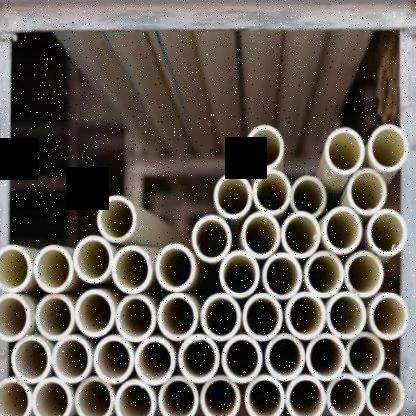pipe: (134, 336, 176, 386), (155, 243, 197, 292), (178, 334, 219, 384), (157, 293, 199, 341), (242, 294, 284, 342), (73, 235, 114, 284), (112, 245, 153, 294), (222, 335, 263, 384), (93, 335, 134, 384), (322, 206, 363, 254), (219, 250, 260, 298), (75, 290, 116, 338), (285, 292, 326, 340), (200, 293, 241, 341), (115, 294, 156, 342), (52, 335, 92, 384), (304, 251, 345, 298), (326, 292, 367, 339), (368, 124, 408, 172), (367, 208, 407, 256), (265, 333, 305, 381), (306, 333, 346, 381), (11, 336, 51, 384), (325, 127, 365, 174), (281, 211, 321, 258), (192, 215, 231, 263), (34, 245, 73, 293), (345, 250, 384, 298), (370, 292, 409, 340), (97, 195, 136, 242), (242, 211, 281, 258), (346, 332, 385, 379), (262, 253, 302, 298), (348, 168, 386, 215), (214, 172, 252, 219), (252, 170, 290, 216), (36, 294, 74, 340), (284, 374, 325, 416), (244, 374, 285, 416), (245, 125, 284, 169), (157, 375, 198, 416), (200, 374, 240, 416), (366, 373, 405, 416), (326, 372, 364, 416), (75, 375, 113, 416), (114, 379, 156, 416), (290, 175, 326, 218), (31, 377, 70, 416), (0, 245, 32, 292), (0, 294, 29, 342), (0, 378, 32, 416)
